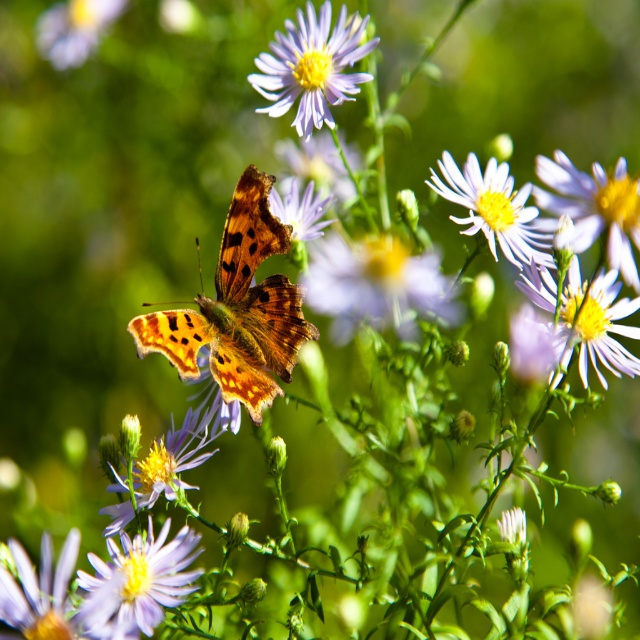Butterfly: (126, 163, 321, 426)
